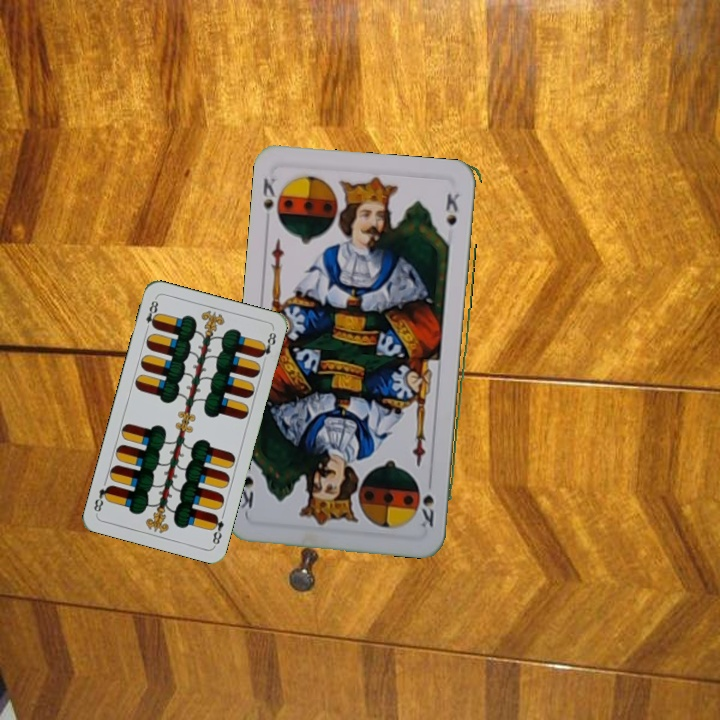E8: (141, 294, 161, 334), (207, 510, 227, 548)
SK: (258, 174, 278, 228), (417, 490, 437, 530)
